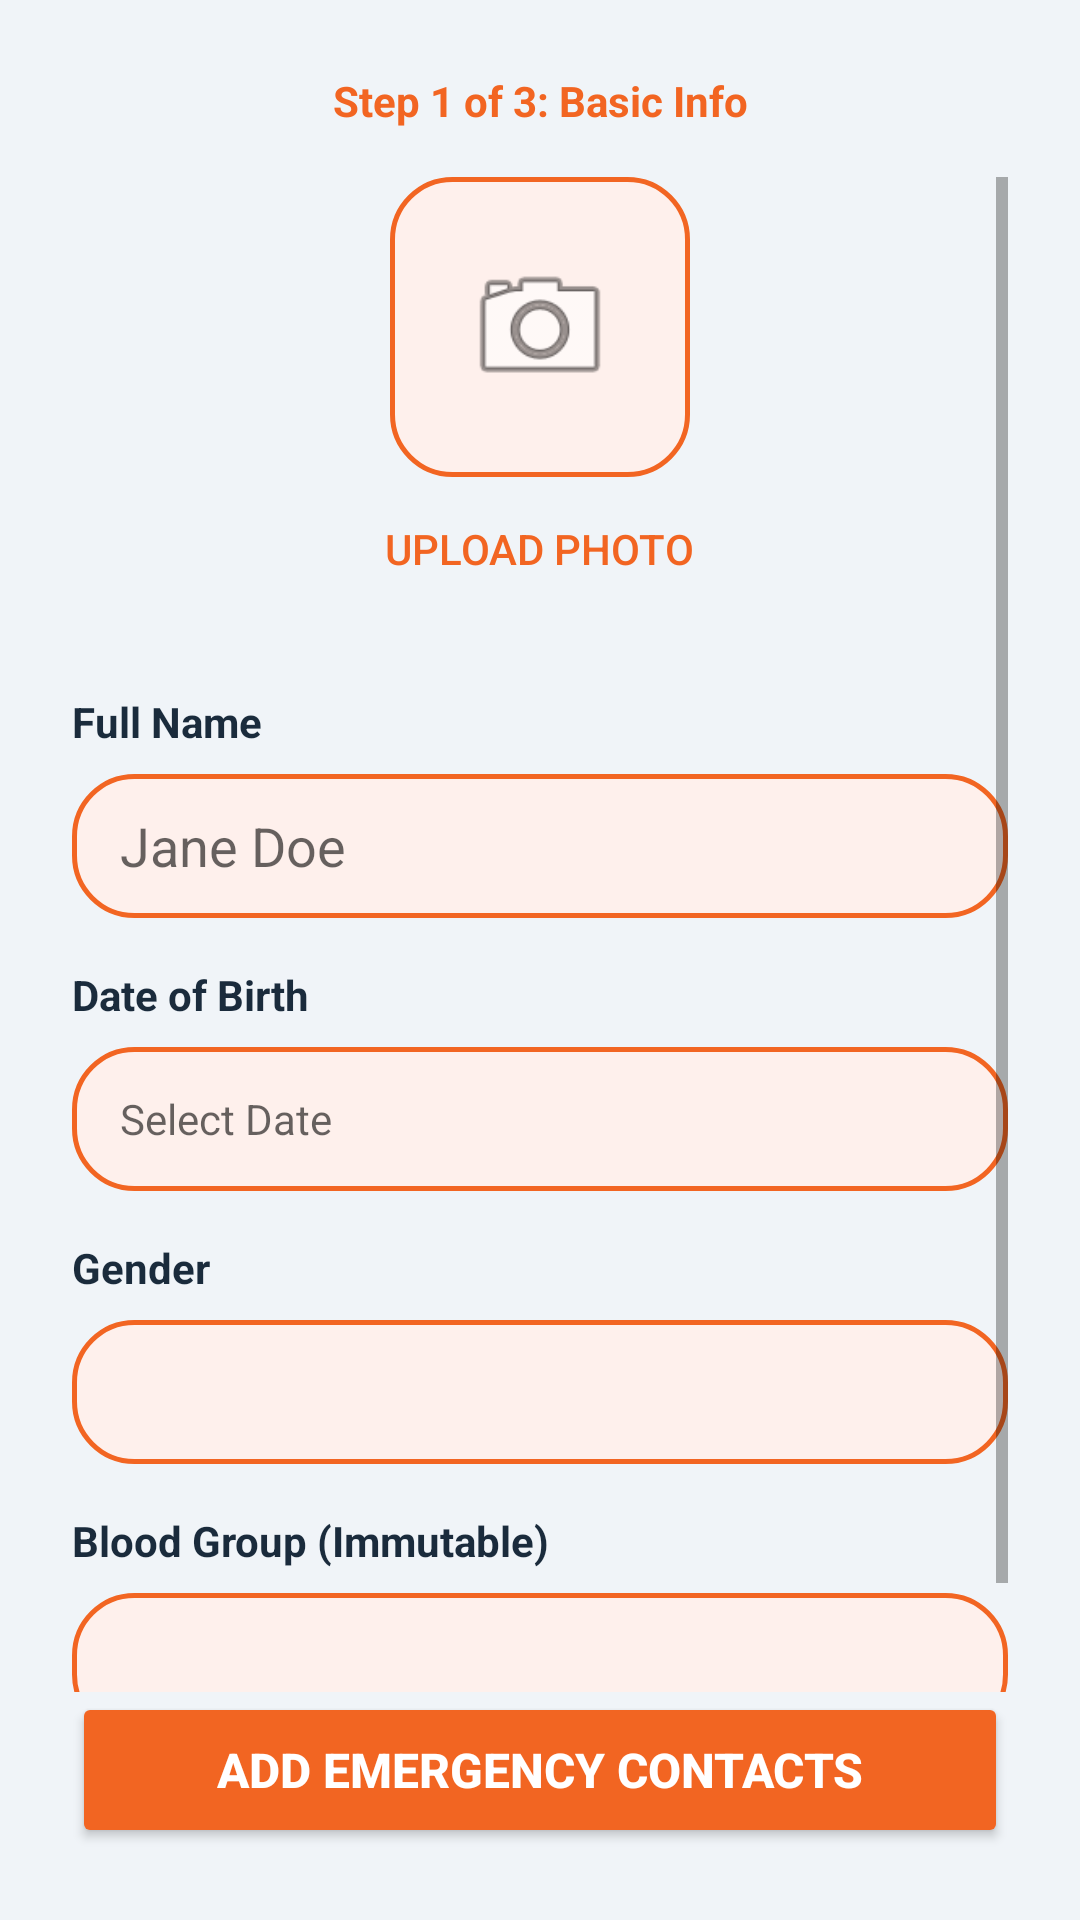

Named icons in this screenshot (1080 × 1920) and their bounding boxes, (x1, y1, x2, y2):
camera: (390, 177, 690, 477)
